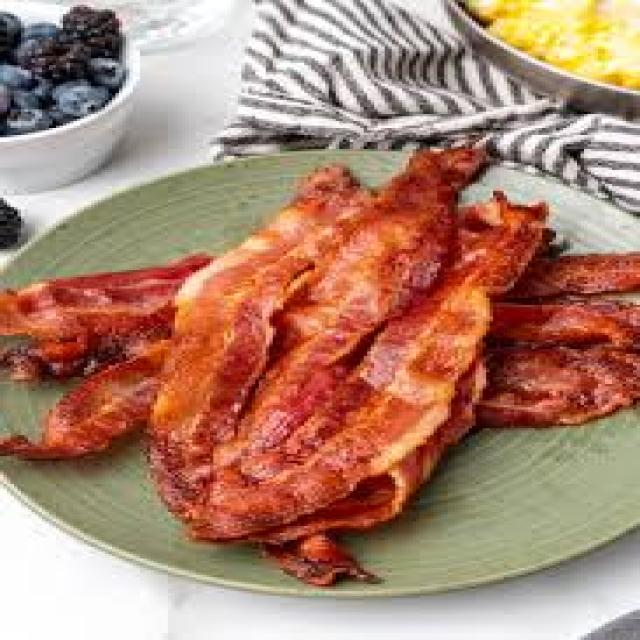Bacon: (192, 194, 548, 551), (148, 165, 368, 521), (235, 150, 487, 458), (0, 255, 209, 379), (0, 340, 168, 459), (479, 304, 639, 426), (479, 352, 639, 426), (505, 253, 639, 298)
